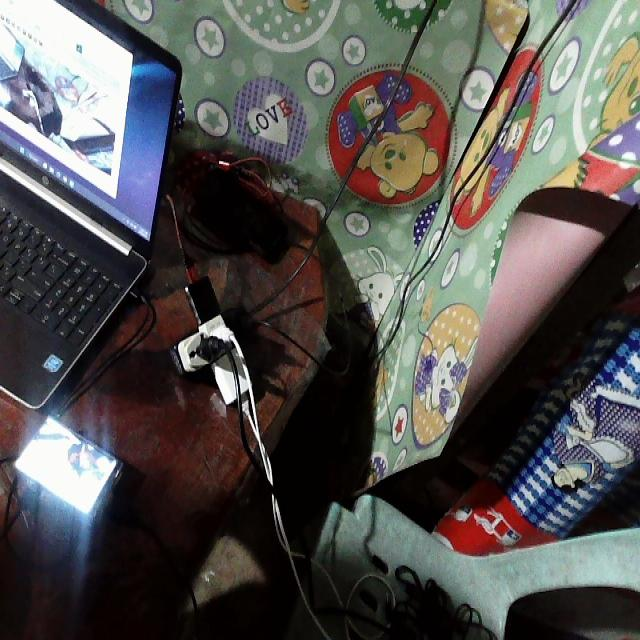-: (166, 275, 256, 401)
